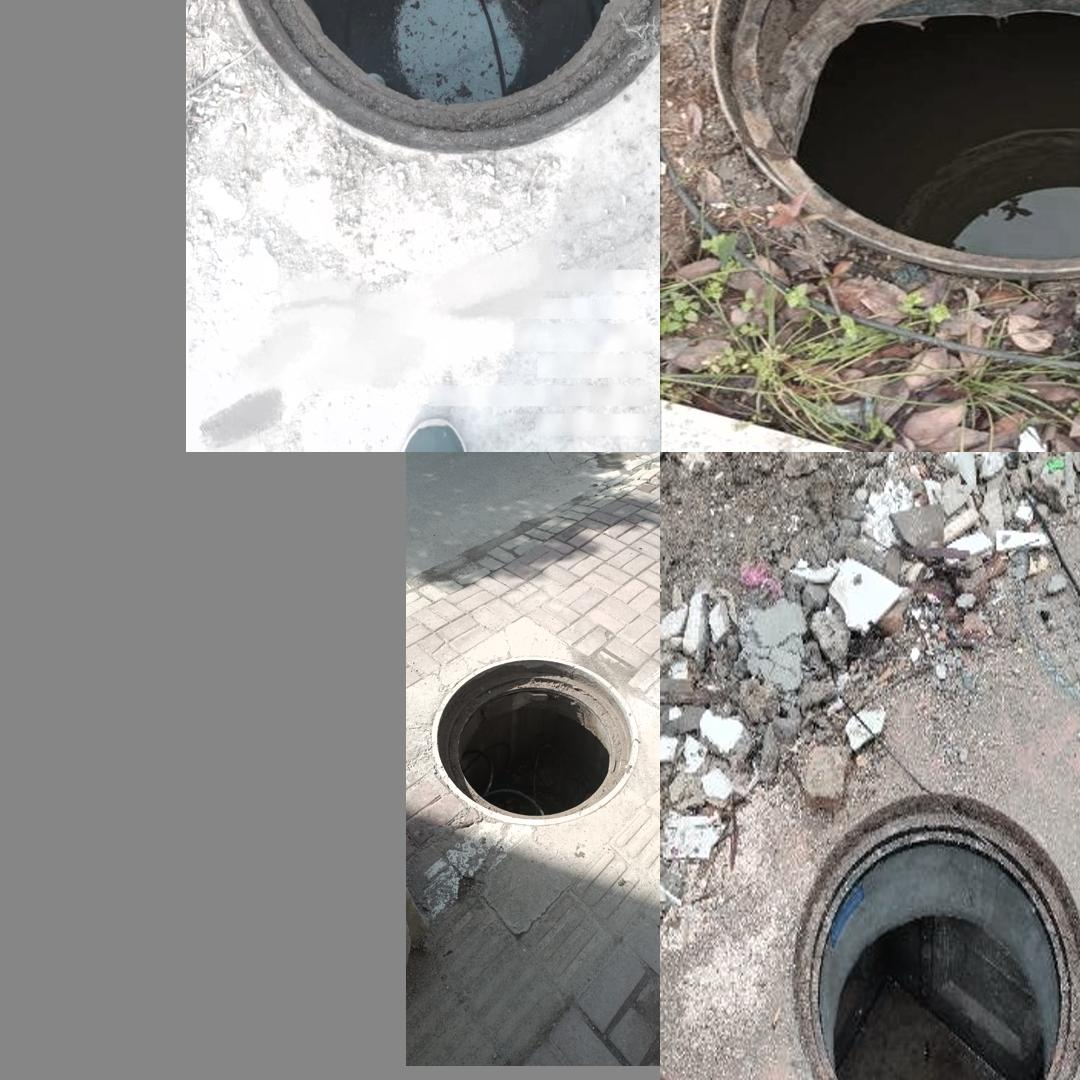lose: (706, 0, 1080, 285), (216, 0, 650, 235), (795, 792, 1080, 1080), (431, 656, 637, 825)
